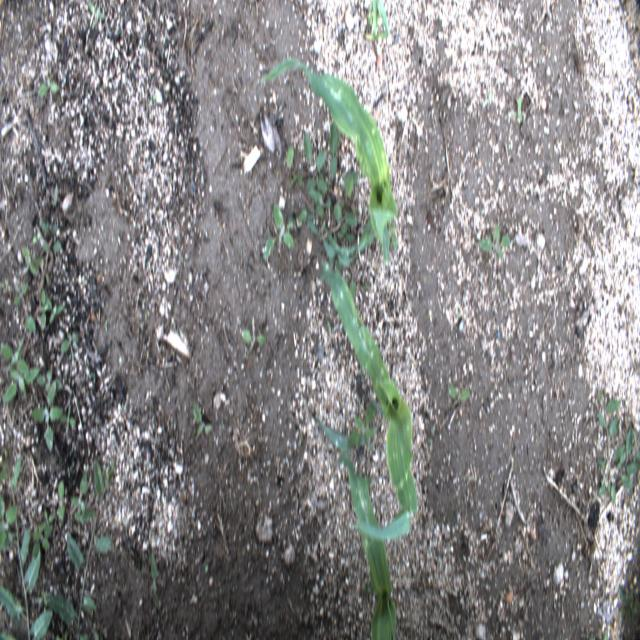crop: (315, 266, 418, 542), (263, 56, 397, 268), (341, 450, 397, 640), (365, 0, 389, 41)
weed: (47, 457, 116, 639), (0, 448, 53, 640), (303, 122, 358, 283), (31, 380, 63, 451), (596, 382, 622, 459), (263, 200, 296, 260), (613, 426, 640, 490), (347, 402, 376, 450), (2, 369, 41, 403), (478, 223, 510, 260), (0, 494, 20, 552), (0, 342, 30, 375), (598, 457, 616, 507), (241, 316, 266, 351), (71, 472, 87, 525), (619, 586, 639, 628), (193, 402, 214, 439), (286, 144, 303, 187), (32, 525, 52, 561), (44, 296, 66, 326), (23, 243, 42, 277), (36, 370, 63, 393), (37, 74, 61, 99), (148, 550, 158, 608), (59, 404, 76, 434), (39, 509, 56, 539), (88, 0, 106, 28), (287, 208, 308, 232), (388, 209, 398, 253), (57, 478, 65, 526), (39, 289, 48, 331), (61, 330, 78, 352), (38, 218, 56, 237), (448, 386, 471, 400), (42, 239, 62, 254), (36, 589, 53, 606), (15, 282, 28, 304), (516, 96, 524, 124), (349, 272, 356, 304), (25, 314, 36, 334), (0, 277, 13, 293), (33, 227, 41, 244), (0, 632, 16, 640), (362, 584, 372, 593), (53, 186, 58, 203)
